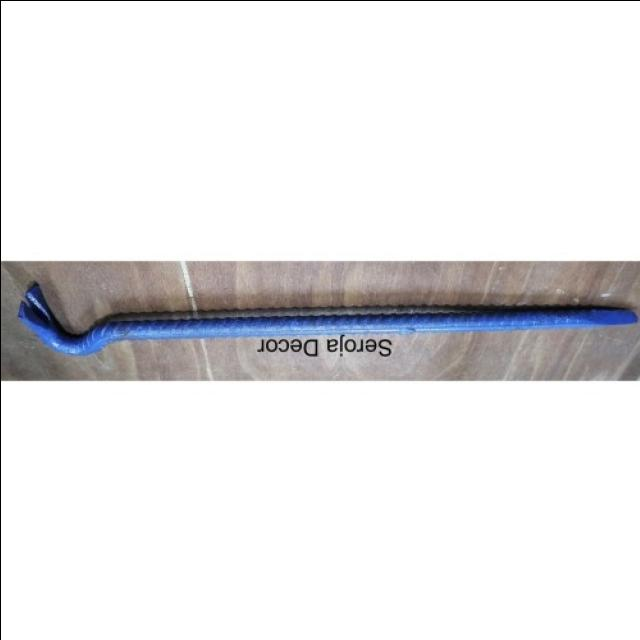Linggis: (21, 285, 637, 354)
